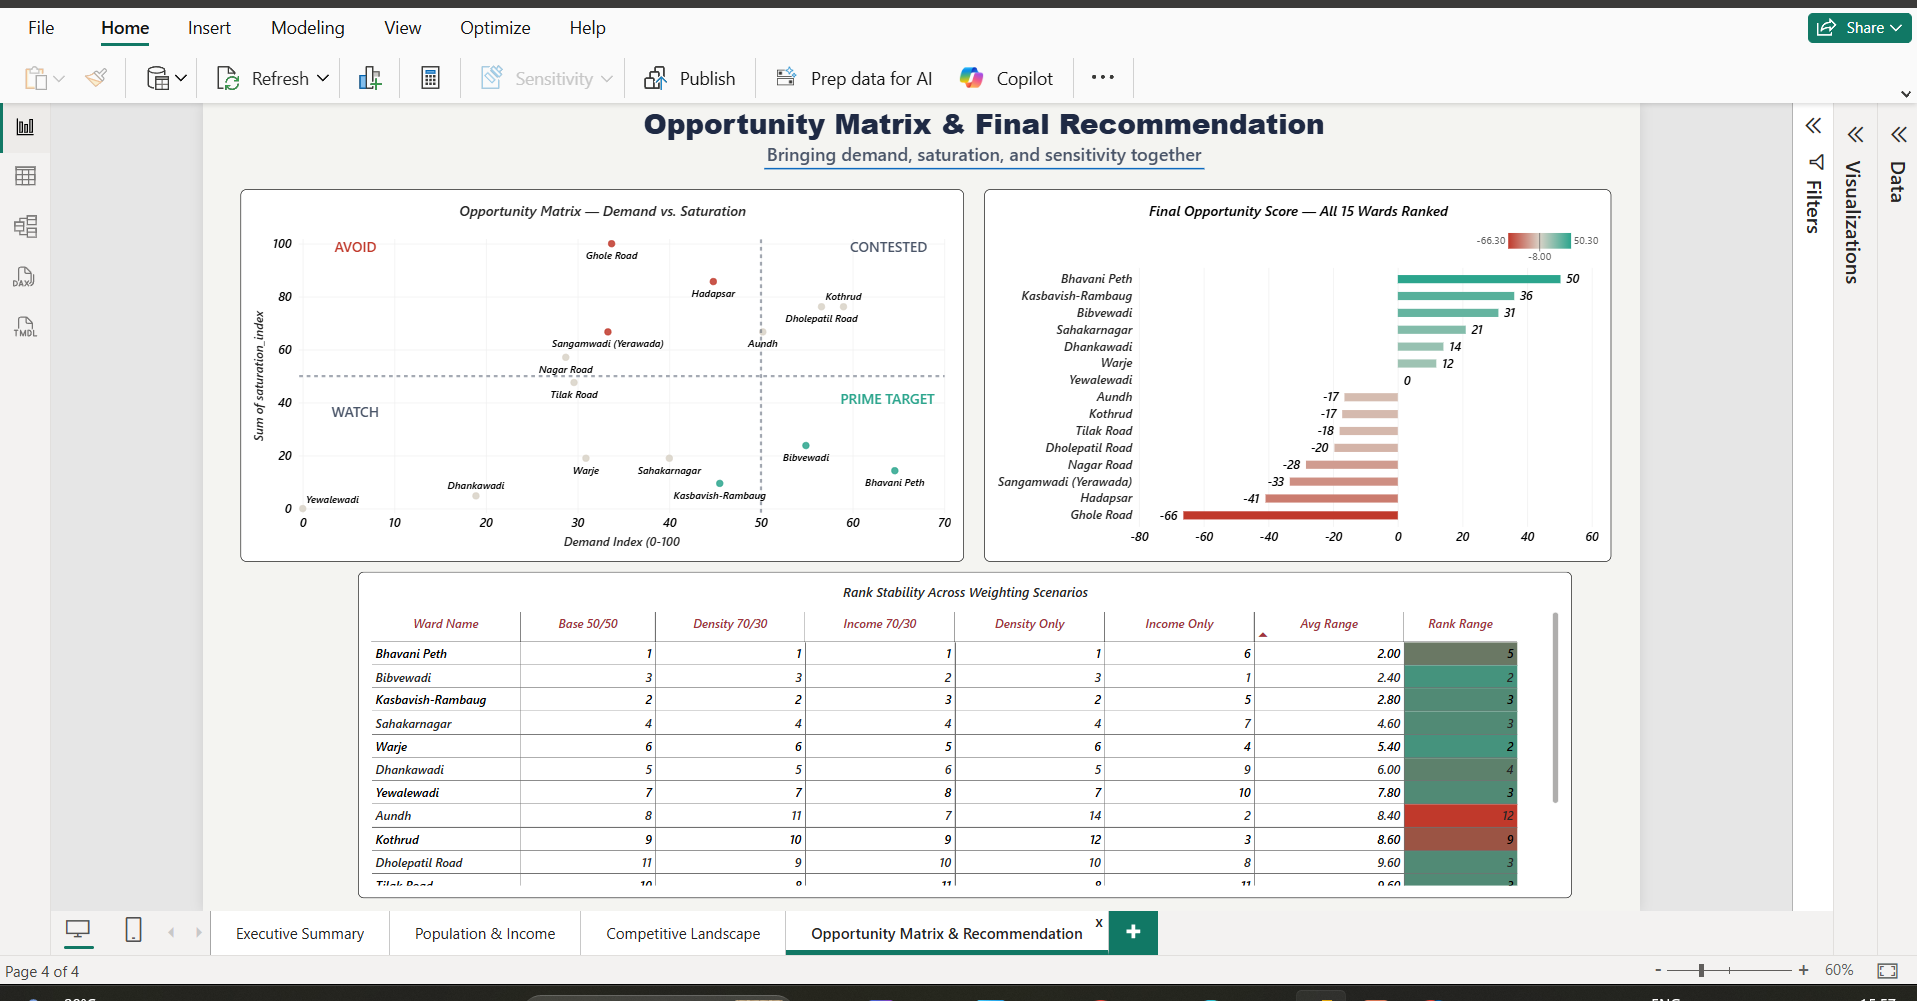

The page's visual inventory and layout, read from the dashboard file:
{"tool":"powerbi","page":{"name":"Opportunity Matrix & Recommendation","canvas":[1920,1080],"ordinal":3},"visuals":[{"type":"textbox","box":[409,0,1268.6,97.7],"z":0},{"type":"shape","box":[749.2,76,588.1,21.7],"z":1000},{"type":"scatterChart","title":"Opportunity Matrix — Demand vs. Saturation","fields":{"X":["Sum(pune_market_entry_final.demand_index)"],"Y":["Sum(pune_market_entry_final.saturation_index)"],"Series":["pune_market_entry_final.Ward Name"]},"box":[50.7,115.8,966.4,497.7],"z":2000},{"type":"textbox","box":[162,178,88.7,29],"z":3000},{"type":"textbox","box":[144.2,398.7,124.9,34.4],"z":4000},{"type":"textbox","box":[852.5,178,130.3,29],"z":5000},{"type":"textbox","box":[847.2,382.6,135.7,32.6],"z":6000},{"type":"clusteredBarChart","title":"Final Opportunity Score — All 15 Wards Ranked","fields":{"Category":["pune_market_entry_final.Ward Name"],"Y":["Sum(pune_market_entry_final.opportunity_score)"]},"box":[1044.2,115.8,837.9,497.7],"z":7000},{"type":"tableEx","title":"Rank Stability Across Weighting Scenarios","fields":{"Values":["sensitivity_analysis.Ward Name","Sum(sensitivity_analysis.Base case (50/50))","Sum(sensitivity_analysis.Density-heavy (70/30))","Sum(sensitivity_analysis.Income-heavy (30/70))","Sum(sensitivity_analysis.Density-only (100/0))","Sum(sensitivity_analysis.Income-only (0/100))","Sum(sensitivity_analysis.avg_rank)","Sum(sensitivity_analysis.rank_range)"]},"box":[206.3,626.1,1621.5,436.1],"z":8000}]}

Visuals, with their boxes on the page's 1920x1080 design canvas (x1, y1, x2, y2). These are canvas units, not pixel positions in the 1917x1001 screenshot, which may show the page scaled, cropped or inside an application window:
textbox: crop(409, 0, 1678, 98)
shape: crop(749, 76, 1337, 98)
"Opportunity Matrix — Demand vs. Saturation" scatterChart: crop(51, 116, 1017, 614)
textbox: crop(162, 178, 251, 207)
textbox: crop(144, 399, 269, 433)
textbox: crop(852, 178, 983, 207)
textbox: crop(847, 383, 983, 415)
"Final Opportunity Score — All 15 Wards Ranked" clusteredBarChart: crop(1044, 116, 1882, 614)
"Rank Stability Across Weighting Scenarios" tableEx: crop(206, 626, 1828, 1062)
